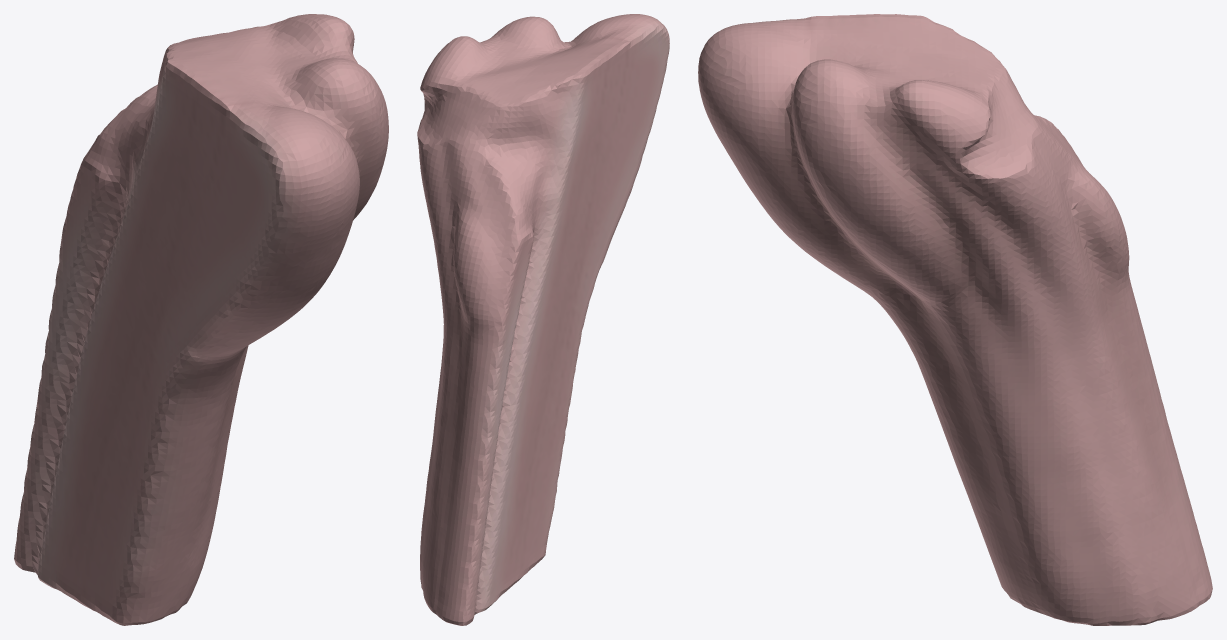
Rendered from Brain_stem54.obj.
The picture shows the model from 3 angles, left to right: view 1: azimuth 30°, elevation 25°; view 2: azimuth 150°, elevation 25°; view 3: azimuth 270°, elevation 25°; orthographic projection. The views are drawn at different scales.
Parts seen in each view (by area): view 1: obj0; view 2: obj0; view 3: obj0.
Boxes of the visible parts, left/top/right/bottom form: obj0: left=14, top=14, right=388, bottom=625; obj0: left=417, top=14, right=669, bottom=625; obj0: left=698, top=14, right=1212, bottom=625.
Size of the model in its own units: 6.37 by 19.67 by 15.83.
Materials: 1 (1 with a texture image).
